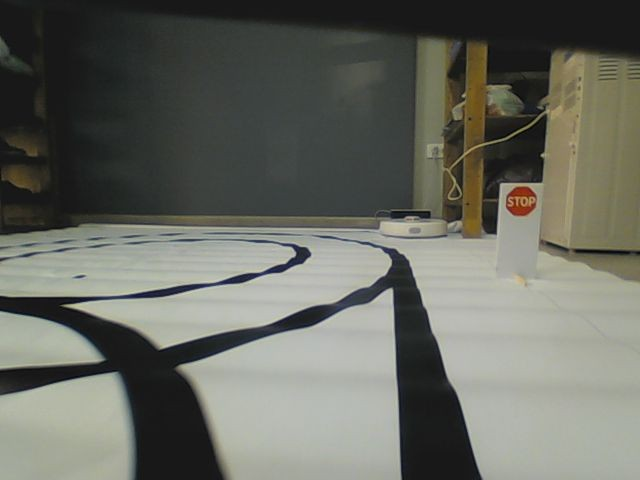Stop: (505, 185, 538, 216)
